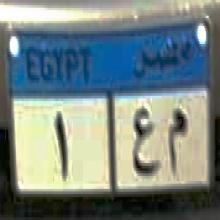1: (50, 105, 72, 186)
ain: (130, 104, 159, 184)
meem: (165, 103, 189, 184)
